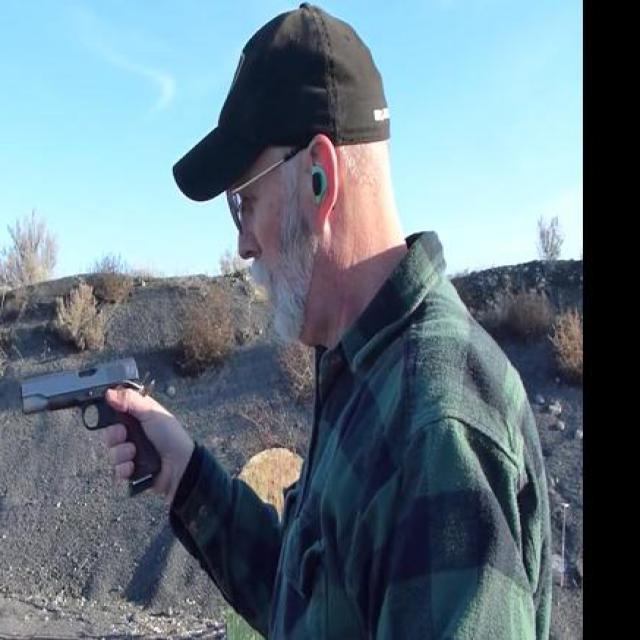Gun: (21, 351, 162, 491)
